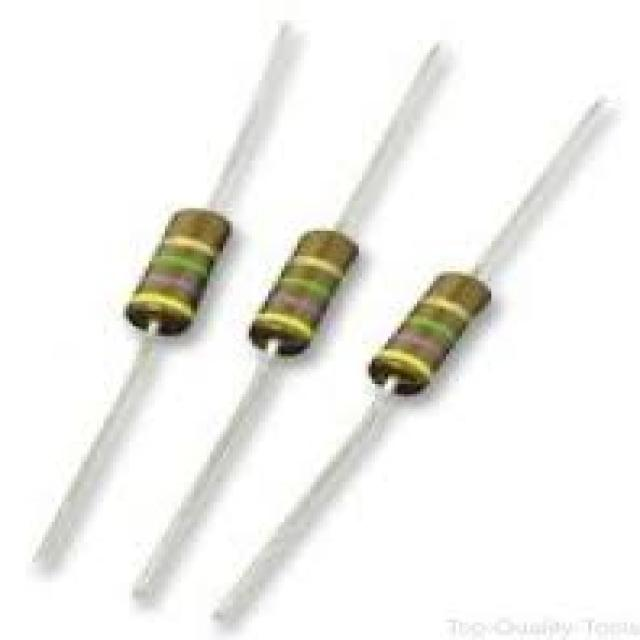Resistor: (369, 271, 494, 395), (249, 229, 360, 357), (126, 208, 234, 336)
